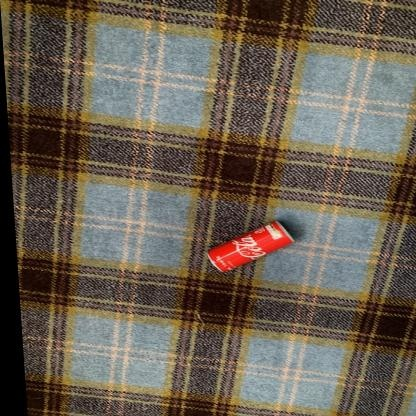trash: (208, 221, 293, 271)
